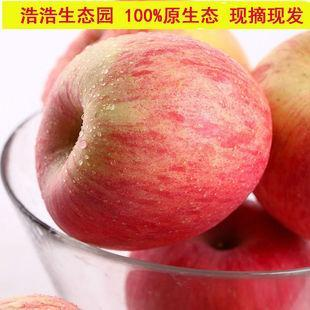apple: (29, 35, 273, 258)
